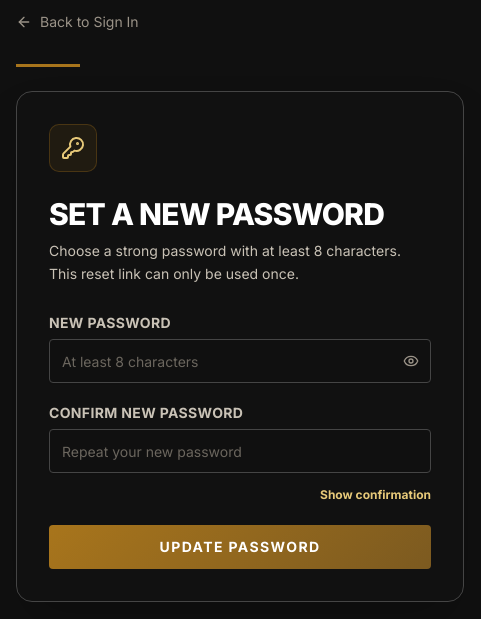
Scenario: password reset screens › submits a strong password and confirms the update
Type "Strong#8" into the password field labelled "New Password" at (240, 361), box [49,339,431,383]
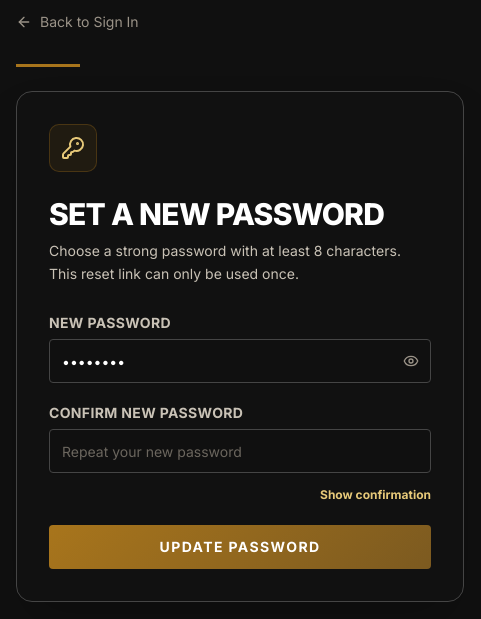
Type "Strong#8" into the password field labelled "Confirm New Password" at (240, 451), box [49,429,431,473]
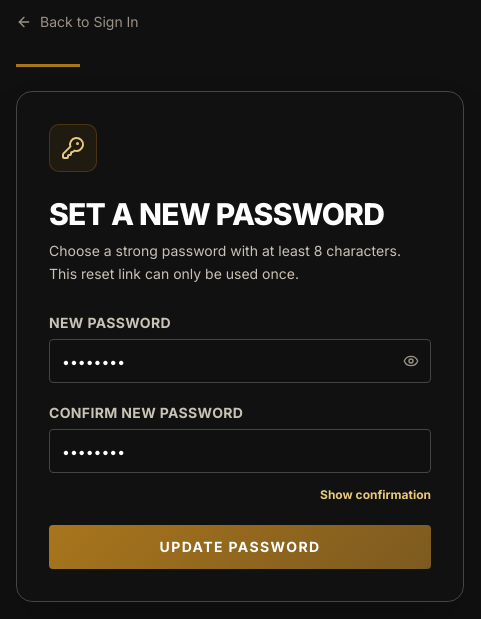
Click the button "Update Password" at (240, 547), box [49,525,431,569]
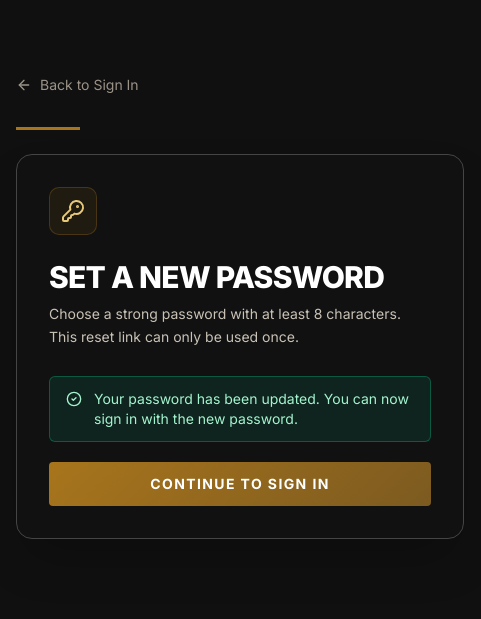
Check: the message shows "password has been updated", box [94,390,409,427]
